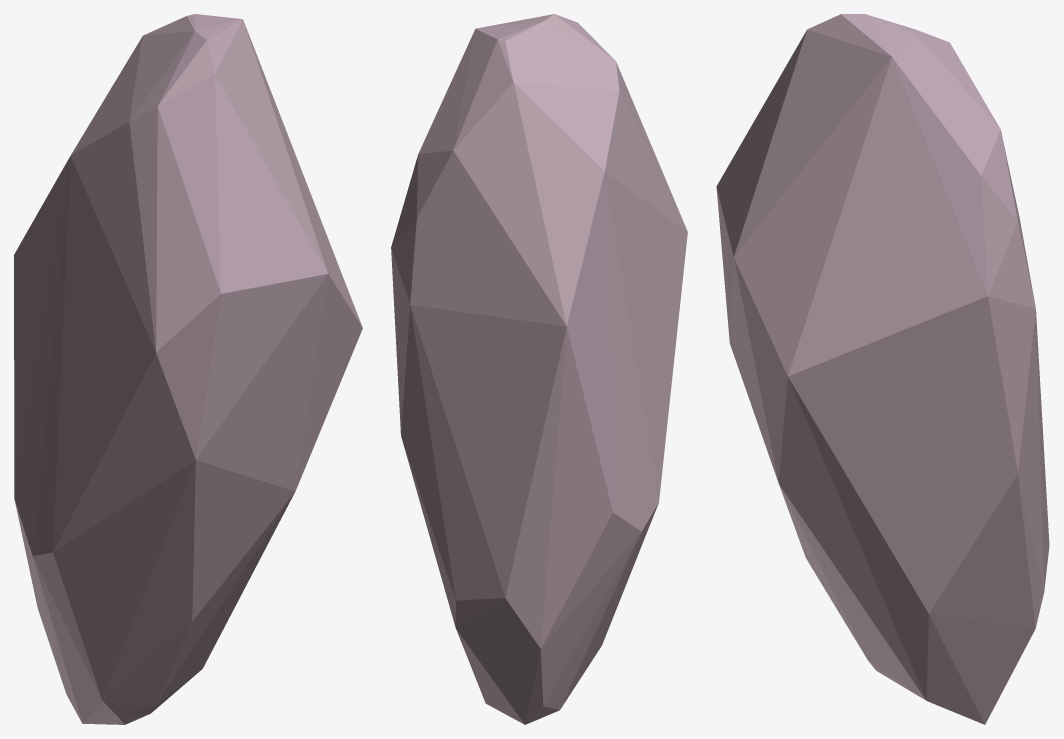
The model's file is food_produce_sweetPotato_a01.glb.
3 views of the same model, side by side, from view 1: azimuth 30°, elevation 25°; view 2: azimuth 150°, elevation 25°; view 3: azimuth 270°, elevation 25° (orthographic). The views are drawn at different scales.
Visible parts, largest first — view 1: geometry_0; view 2: geometry_0; view 3: geometry_0.
Part boxes in pixels (x1,y1,x2,y2): geometry_0: (14,14,362,724); geometry_0: (391,14,687,724); geometry_0: (716,14,1049,724).
Bounding box in the file's own units: 0.1805 × 0.4697 × 0.1969.
